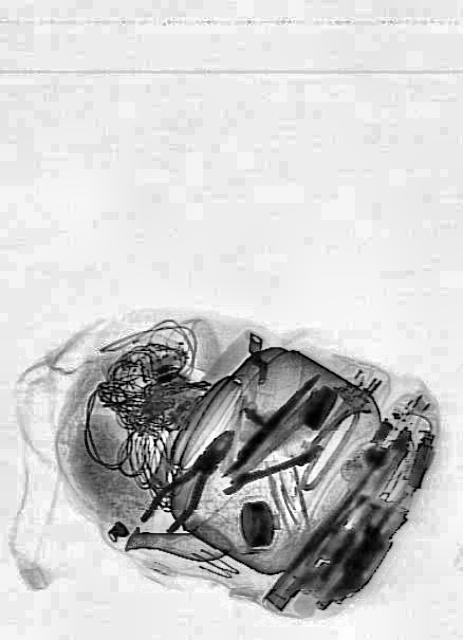Pliers: (136, 415, 246, 549)
Wrench: (219, 436, 323, 496)
